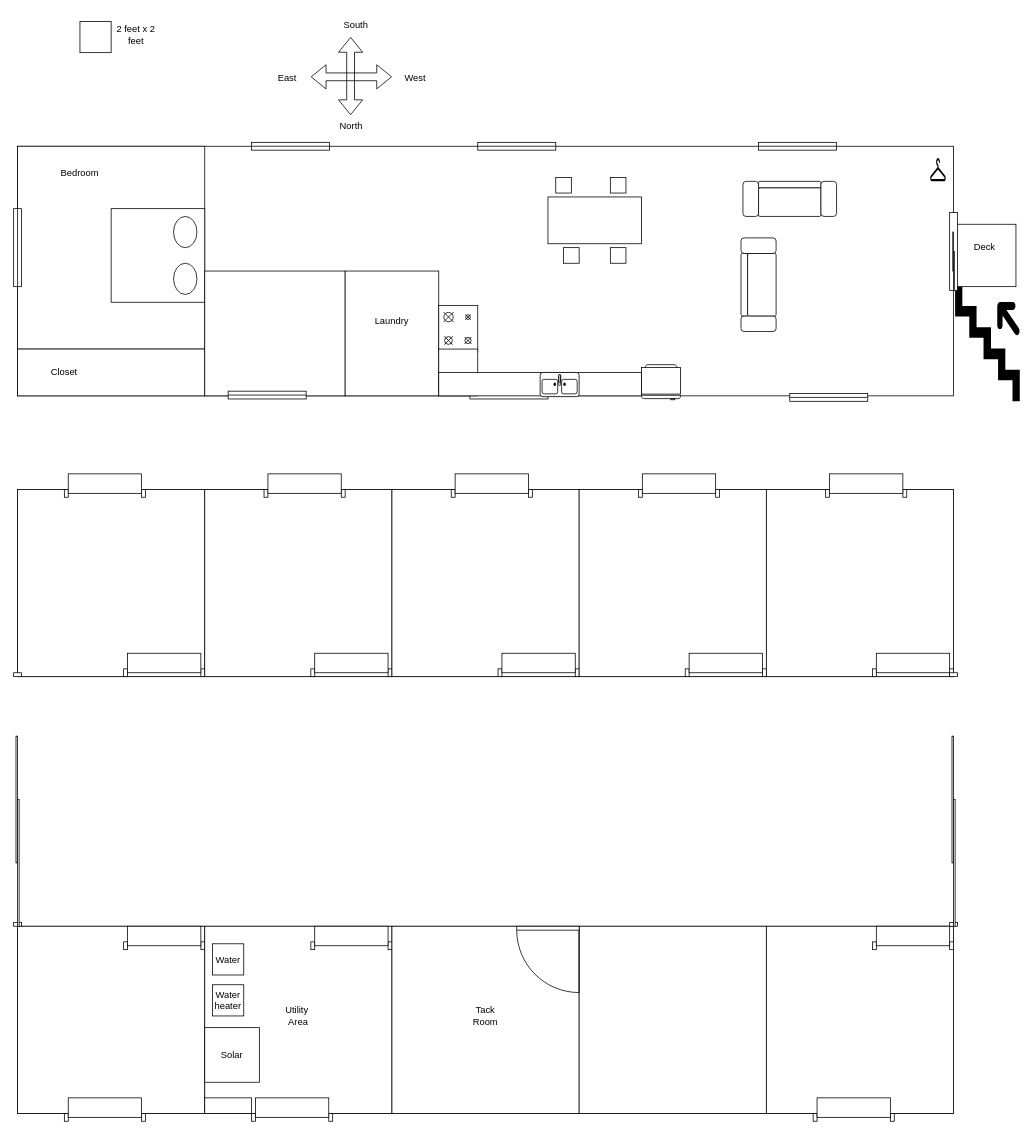
The diagram is 1035 pixels wide and 1135 high, and some of its shapes have lost their labels. Each missing label, with the box of its shape:
Bathroom: (204, 270, 345, 396)
Panel: (204, 1097, 252, 1113)
Wash Stall: (578, 925, 766, 1113)
